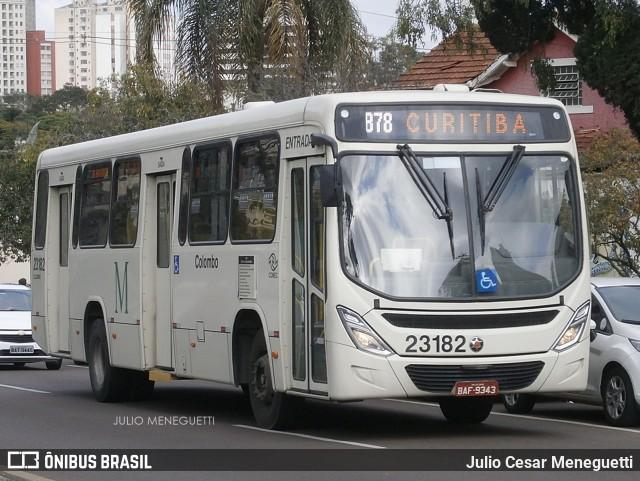CURITIBA: (401, 109, 531, 141)
